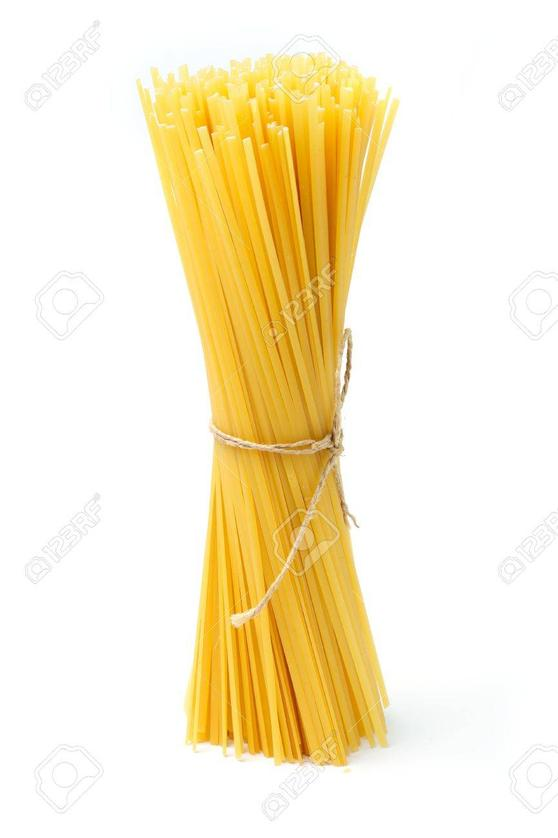spaghetti: (123, 58, 410, 769)
